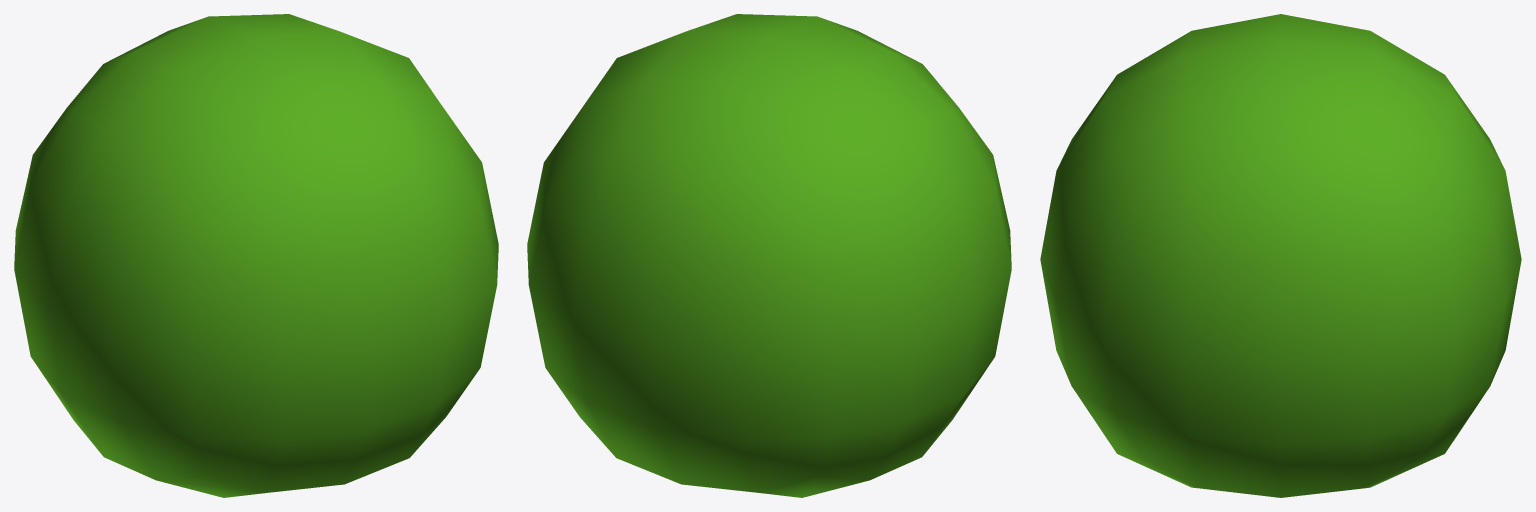
File: Isl_9_Bush_1.fbx
The picture shows the model from 3 angles, left to right: view 1: azimuth 30°, elevation 25°; view 2: azimuth 150°, elevation 25°; view 3: azimuth 270°, elevation 25°; orthographic projection.
Visible parts, largest first — view 1: Isl_9_Bush_1; view 2: Isl_9_Bush_1; view 3: Isl_9_Bush_1.
Boxes of the visible parts, x1,y1,x2,y2 form: Isl_9_Bush_1: (14, 14, 498, 497); Isl_9_Bush_1: (527, 14, 1011, 497); Isl_9_Bush_1: (1040, 14, 1521, 497).
Size of the model in its own units: 140 by 140 by 135.
1 material, 1 textured.
